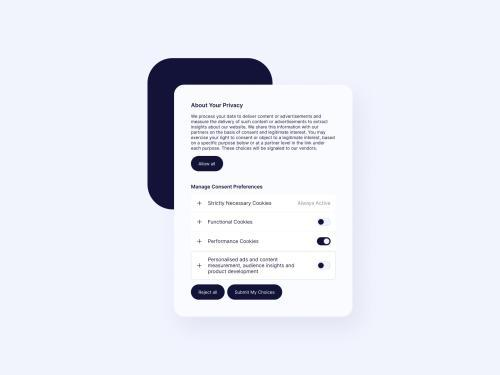button: (228, 284, 283, 302), (190, 285, 226, 302), (191, 156, 225, 173)
icon: (196, 238, 205, 247), (196, 220, 206, 226), (197, 200, 204, 208), (198, 262, 204, 270)
label: (208, 256, 296, 278), (187, 100, 246, 111), (208, 218, 258, 230), (207, 200, 273, 209), (208, 236, 262, 246)
switch: (314, 237, 334, 247), (317, 261, 334, 272), (318, 218, 332, 228)
